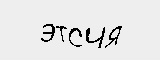В: (51, 18, 65, 39)
И: (35, 20, 50, 39)
М: (68, 17, 96, 38)
У: (95, 17, 117, 37)
Ч: (119, 17, 138, 37)
Ғ: (20, 22, 37, 40)
